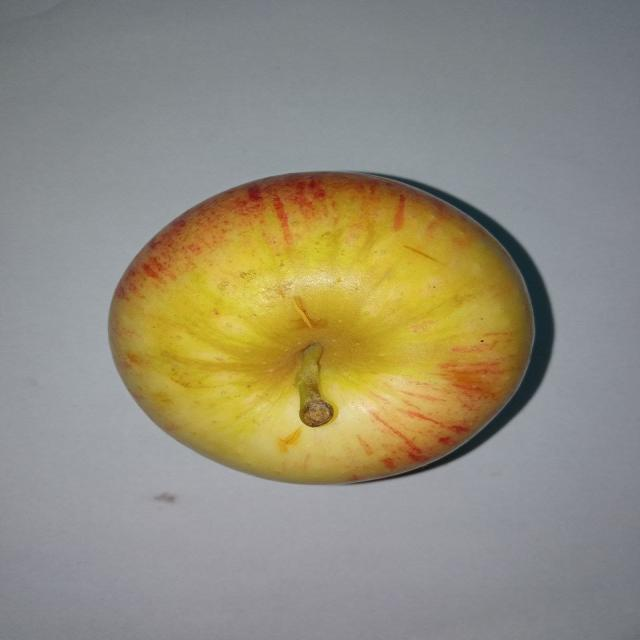fresh_apple: (108, 172, 533, 482)
